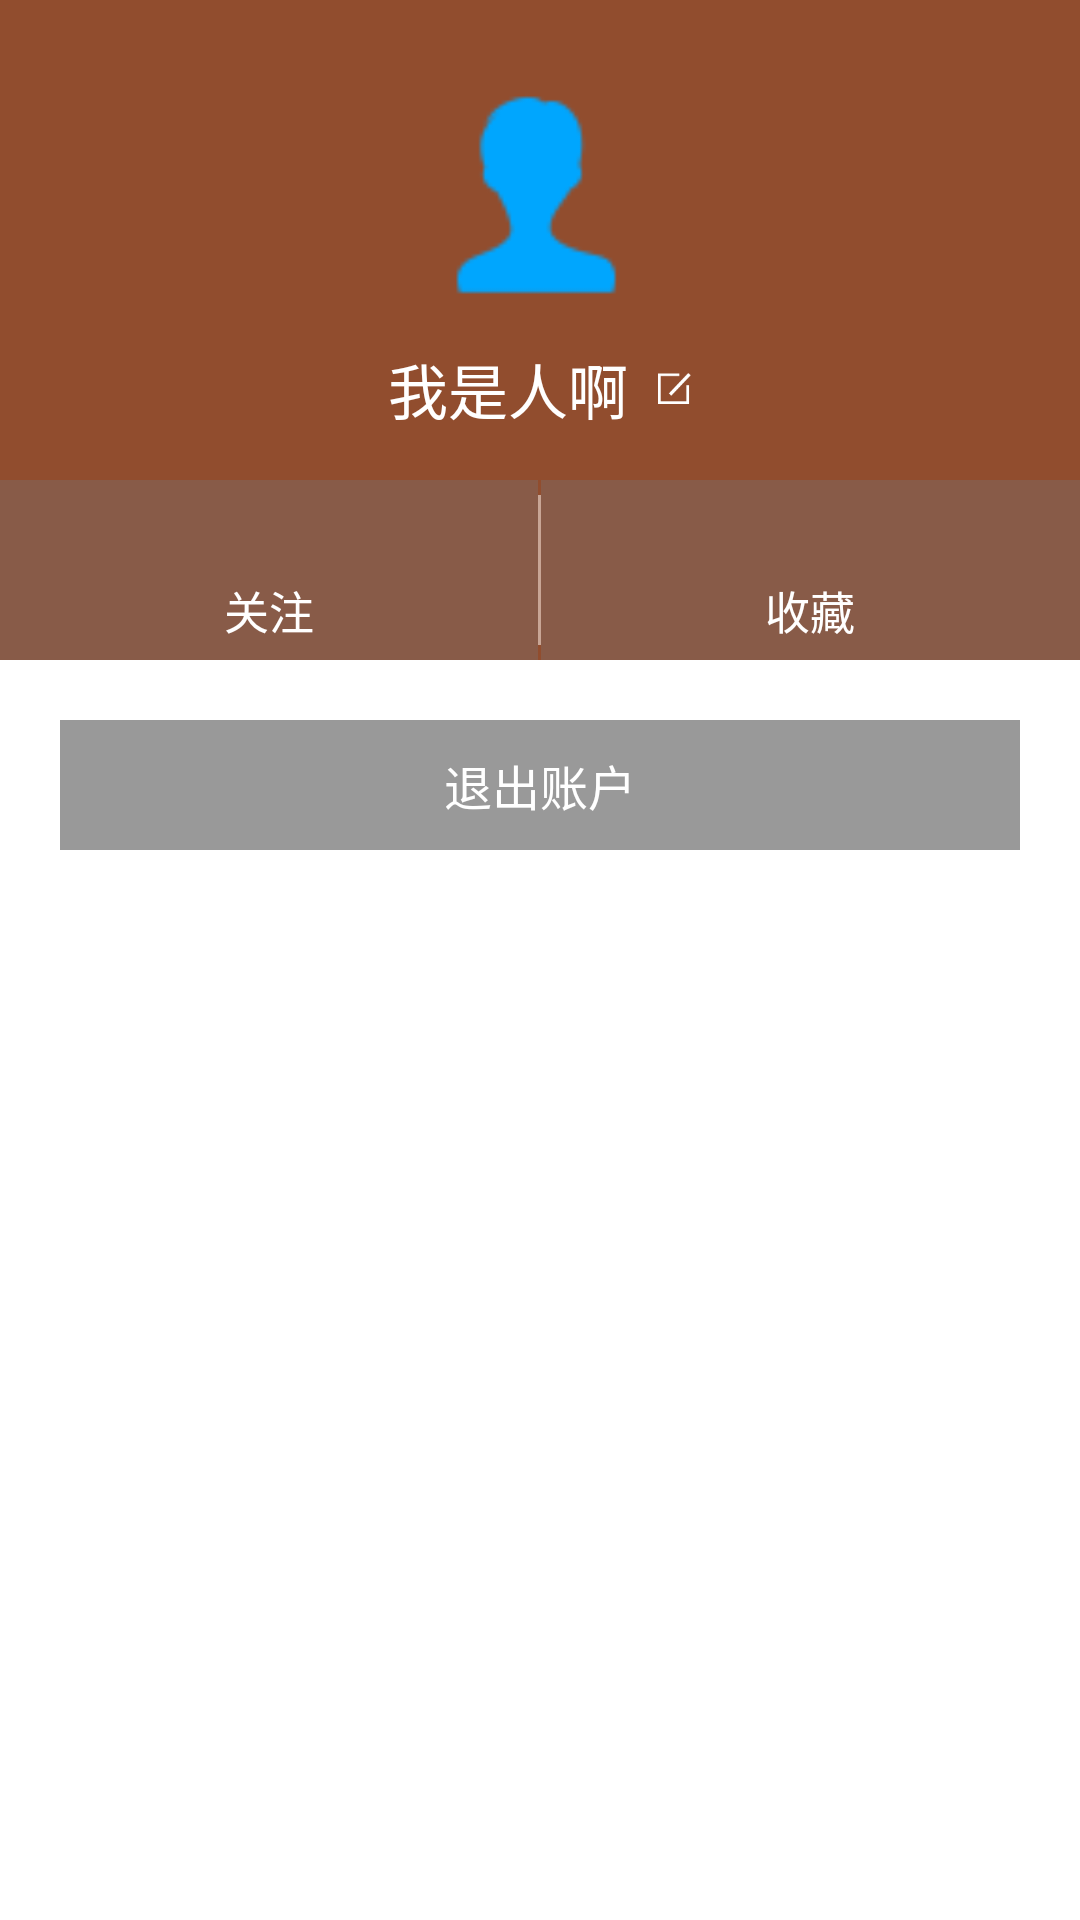

Named icons in this screenshot (1080px×1920px) and their bounding boxes, (x1=x1, y1=y1, x2=x2, y2=y2):
account: (x1=456, y1=96, x2=616, y2=294)
